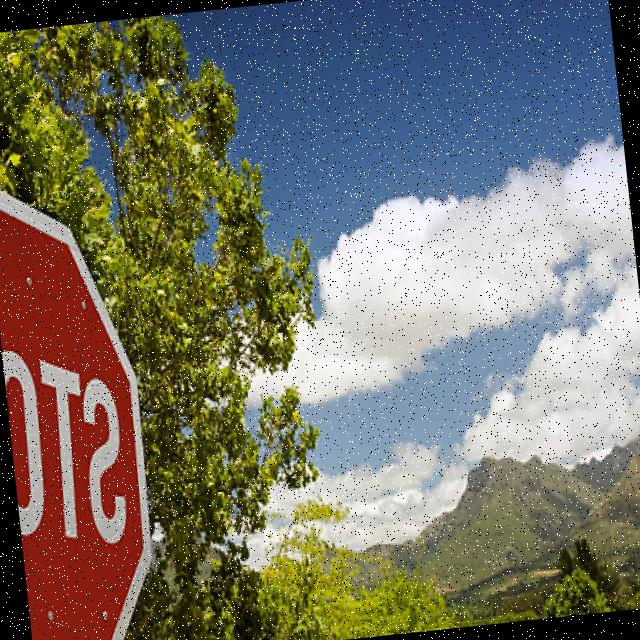stop: (0, 149, 181, 640)
